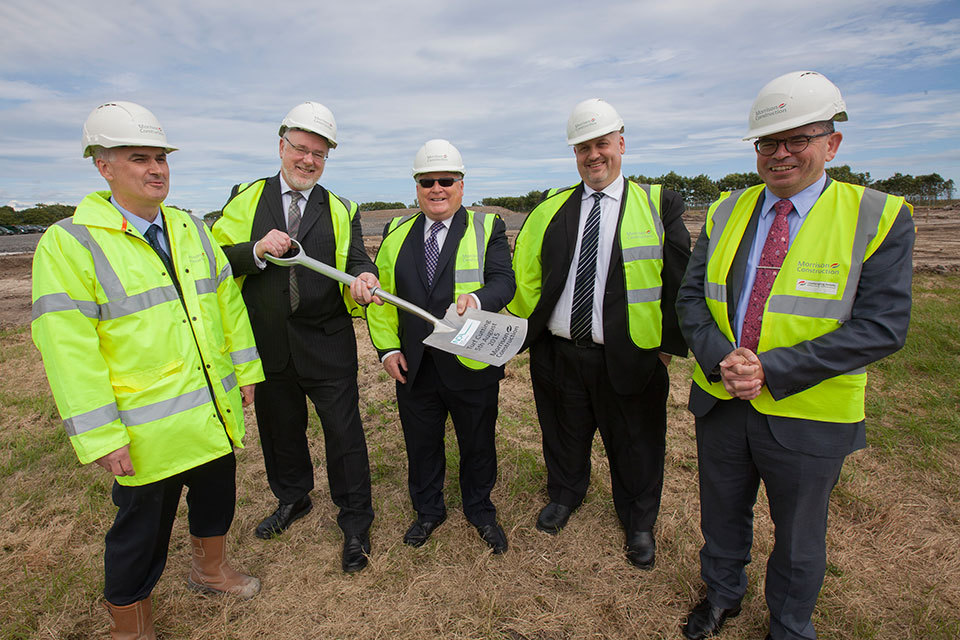Helmet: (736, 66, 867, 200), (77, 95, 184, 233), (557, 93, 646, 198), (270, 90, 347, 193), (404, 134, 479, 230)
Reflective vest: (29, 191, 265, 484), (689, 177, 910, 425), (508, 180, 672, 356), (369, 210, 510, 376), (210, 173, 360, 315)
